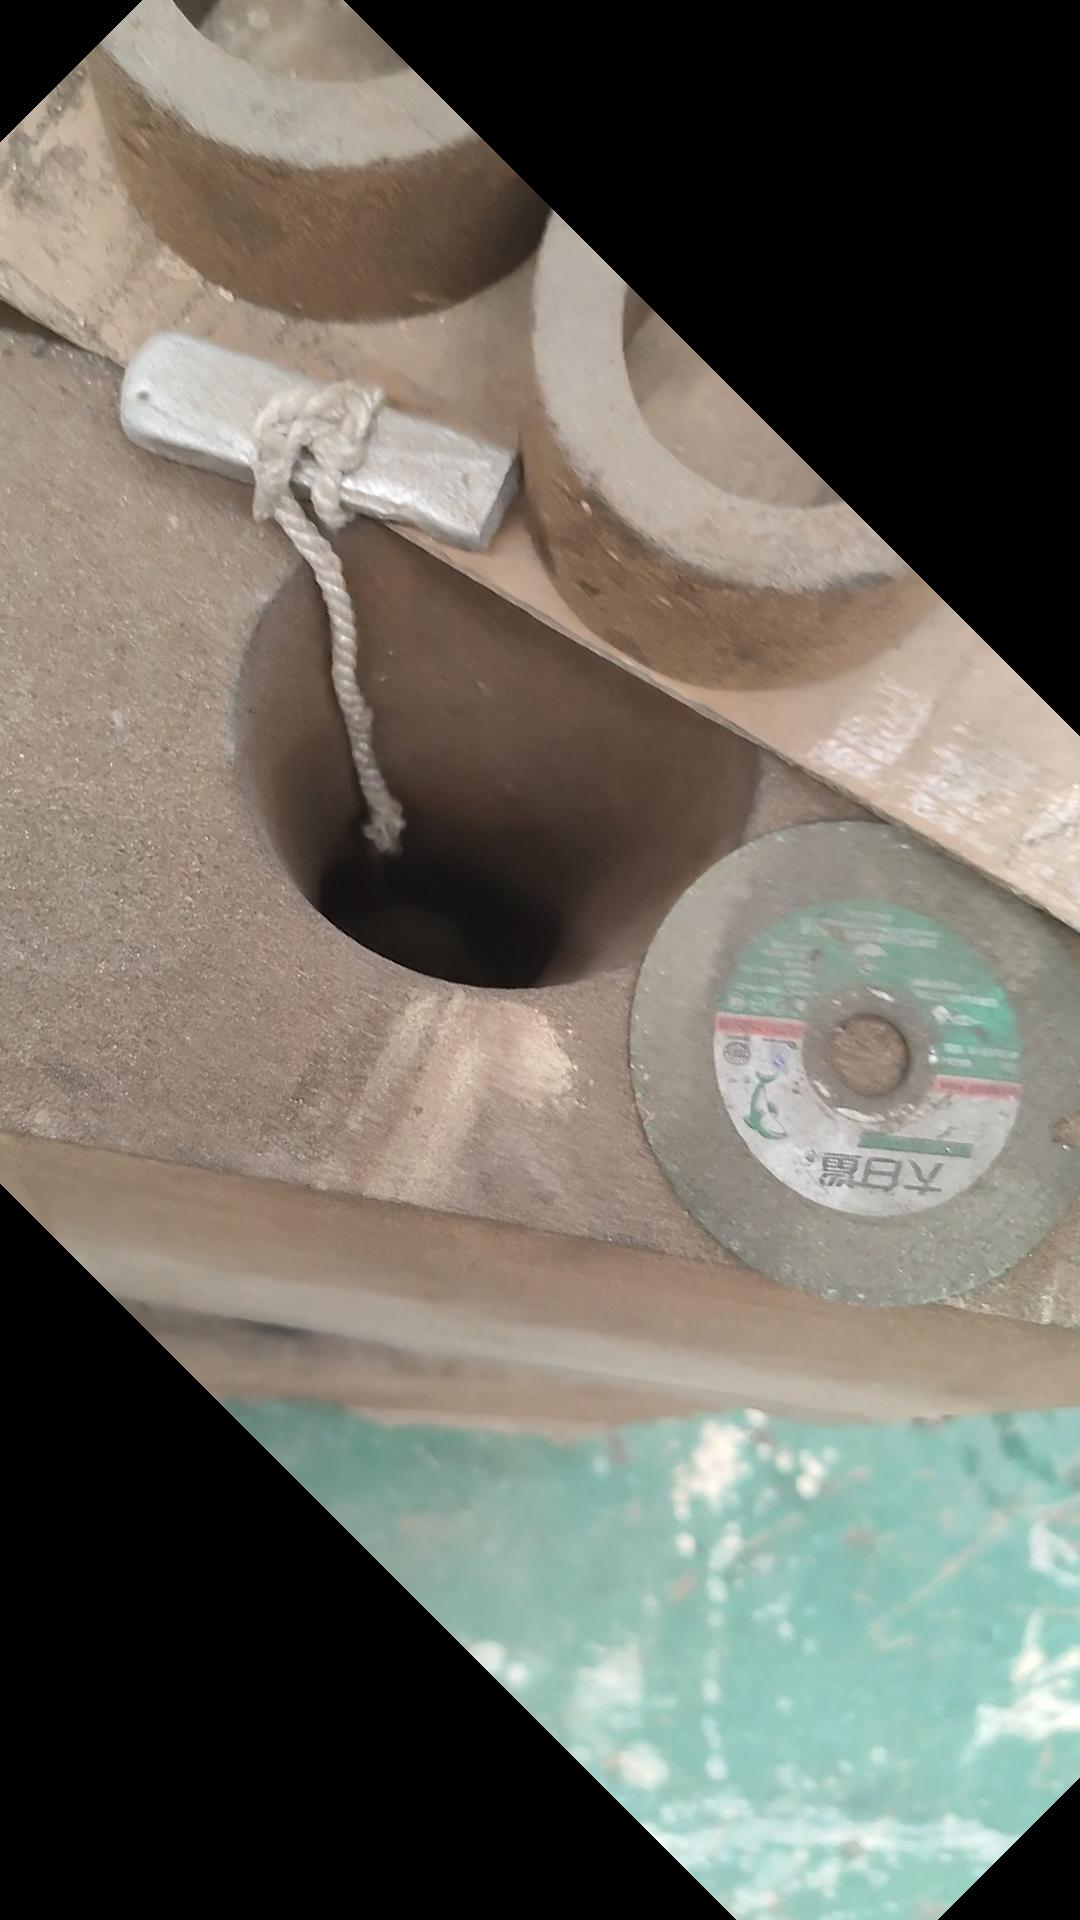pouring hole: (233, 502, 764, 994)
